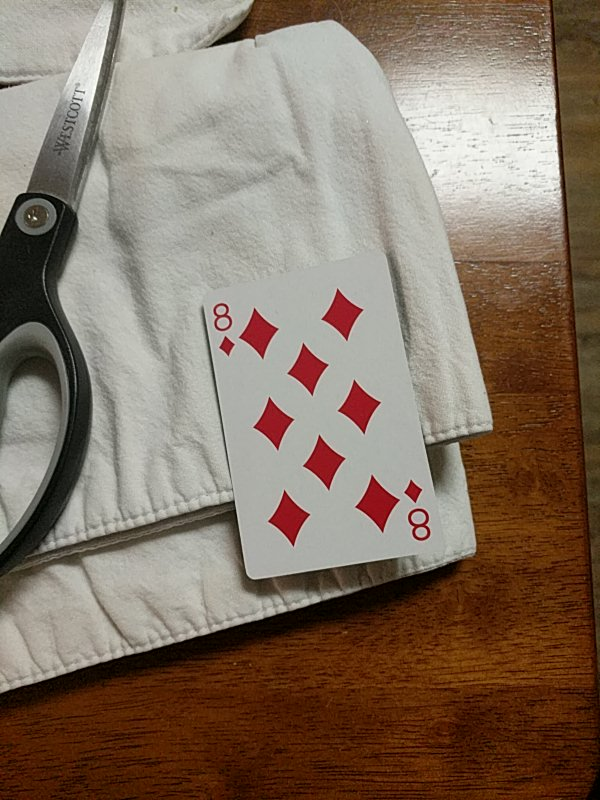Diamonds: (200, 248, 445, 579)
